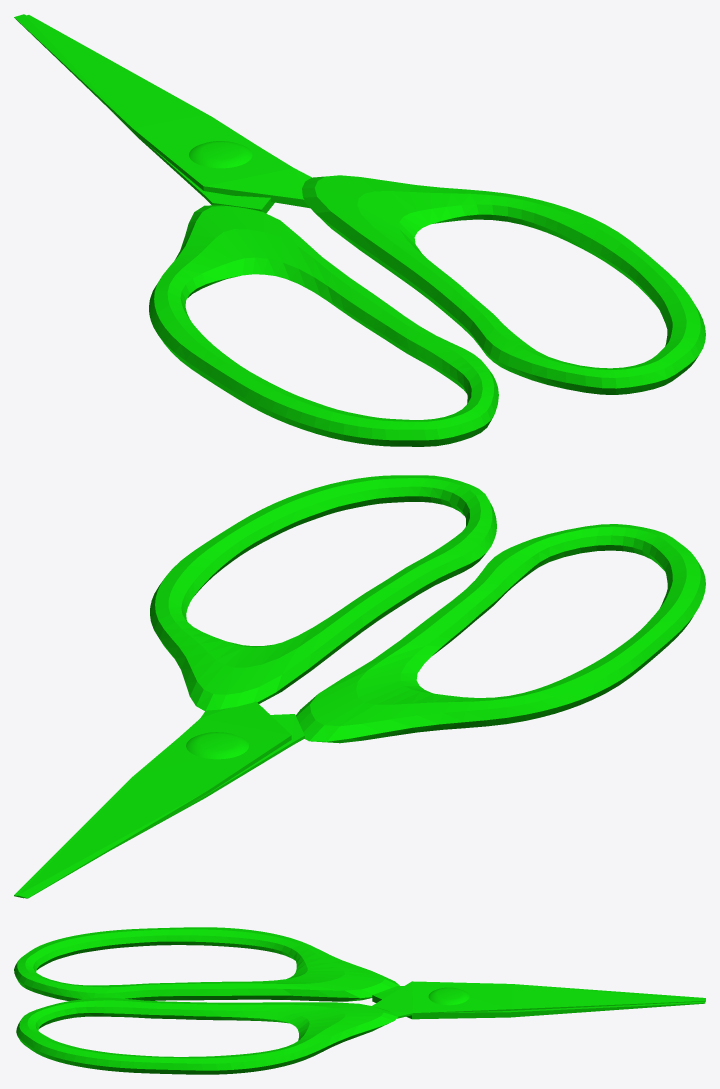
File: Nojnitcy_Low.fbx
The picture shows the model from 3 angles, top to bottom: view 1: azimuth 30°, elevation 25°; view 2: azimuth 150°, elevation 25°; view 3: azimuth 270°, elevation 25°; orthographic projection. The views are drawn at different scales.
Visible parts, largest first — view 1: Nojnitcy_Low; view 2: Nojnitcy_Low; view 3: Nojnitcy_Low.
Part boxes in pixels (x1,y1,x2,y2): Nojnitcy_Low: (14, 14, 705, 446); Nojnitcy_Low: (14, 475, 705, 898); Nojnitcy_Low: (14, 927, 705, 1074).
Size of the model in its own units: 8.45 by 0.4652 by 17.47.
